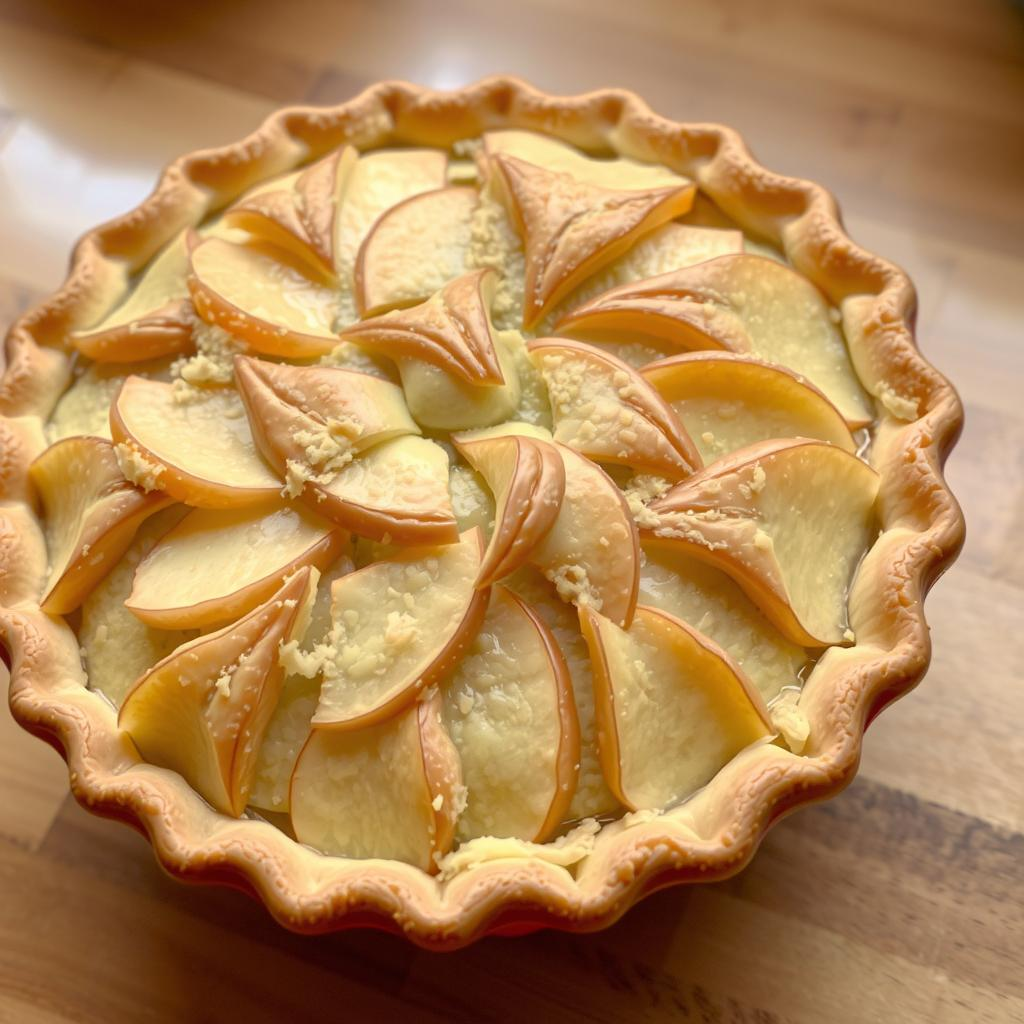pie: (0, 74, 976, 966)
